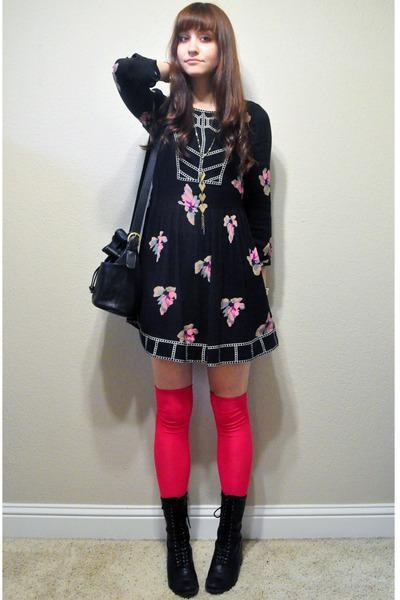bag: (89, 232, 144, 315)
dress: (113, 53, 275, 362)
shoe: (161, 492, 246, 598)
